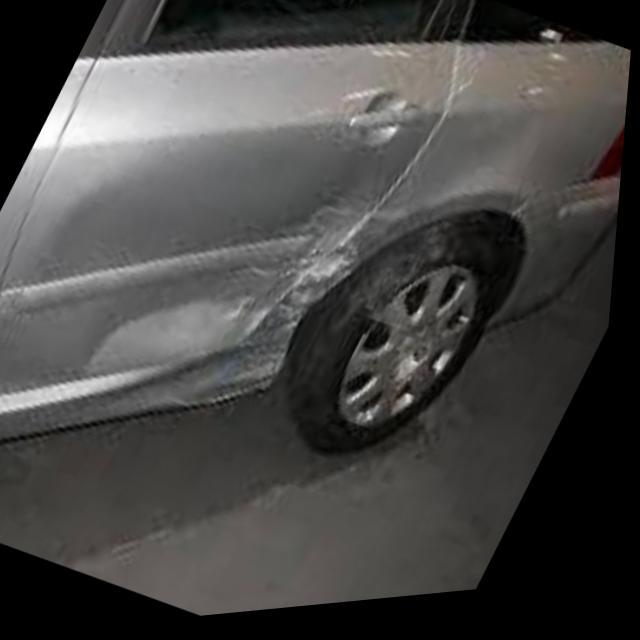dent: (200, 190, 424, 410), (27, 165, 156, 311), (87, 291, 236, 386)
